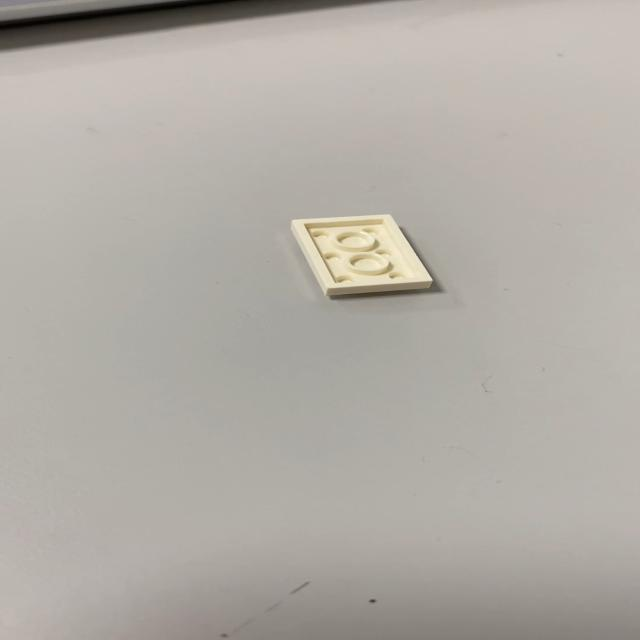C3x2x0: (288, 212, 434, 296)
